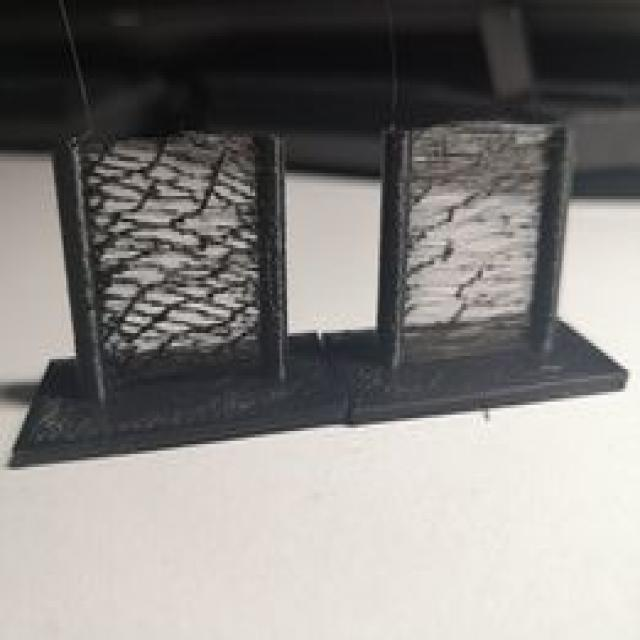stringing: (79, 129, 269, 391), (406, 119, 548, 358), (402, 361, 410, 370)
